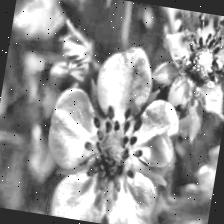Blossom Blight: (74, 100, 152, 198), (166, 11, 224, 110)
